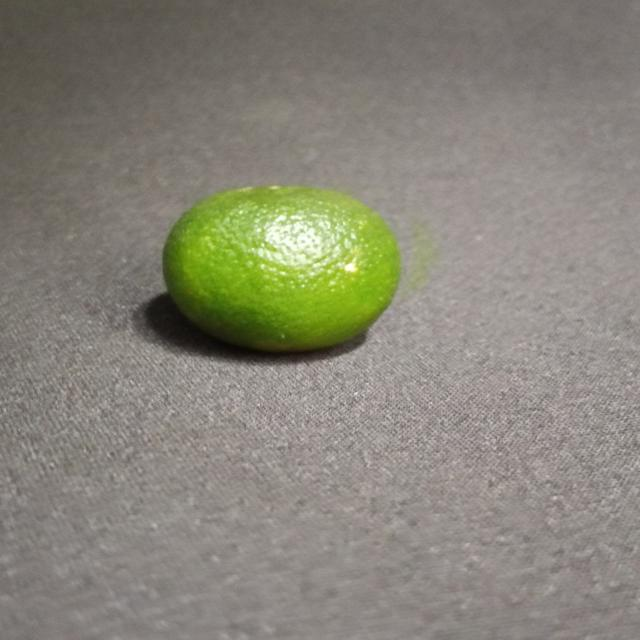heathy: (159, 184, 403, 353)
